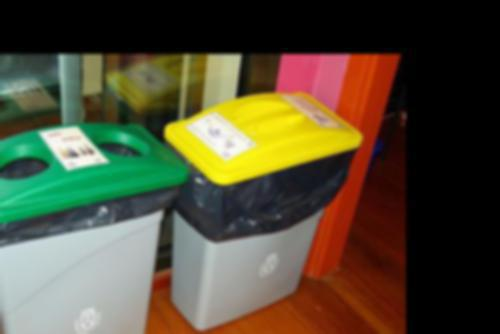Bote de Basura: (0, 90, 176, 334), (177, 93, 356, 323)
